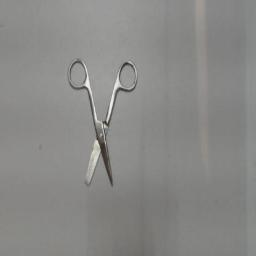Dressing Scissors: (64, 53, 140, 197)
